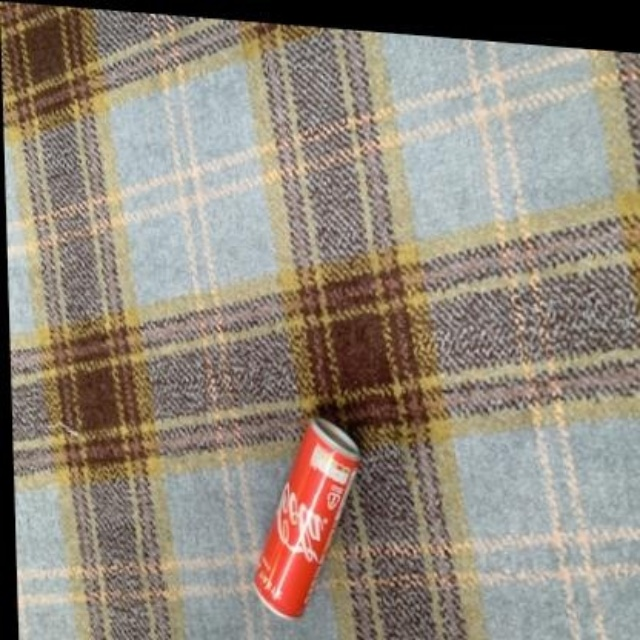trash: (254, 418, 358, 617)
